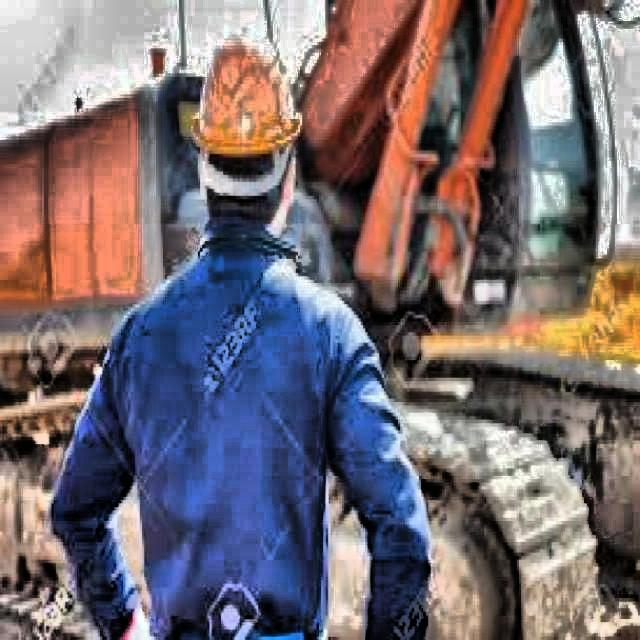bull_dozer/loader/grader: (0, 0, 640, 638)
person: (49, 40, 432, 640)
